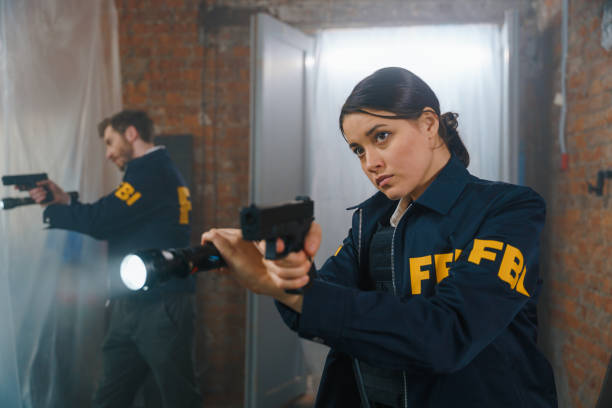gun: (120, 193, 317, 294), (0, 171, 57, 207)
